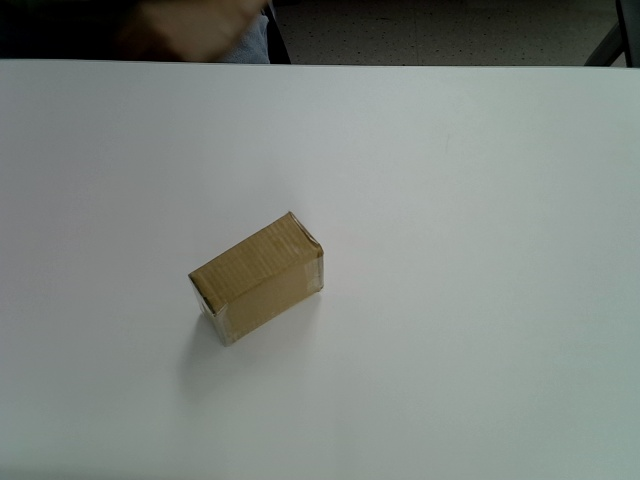normal: (187, 211, 324, 347)
